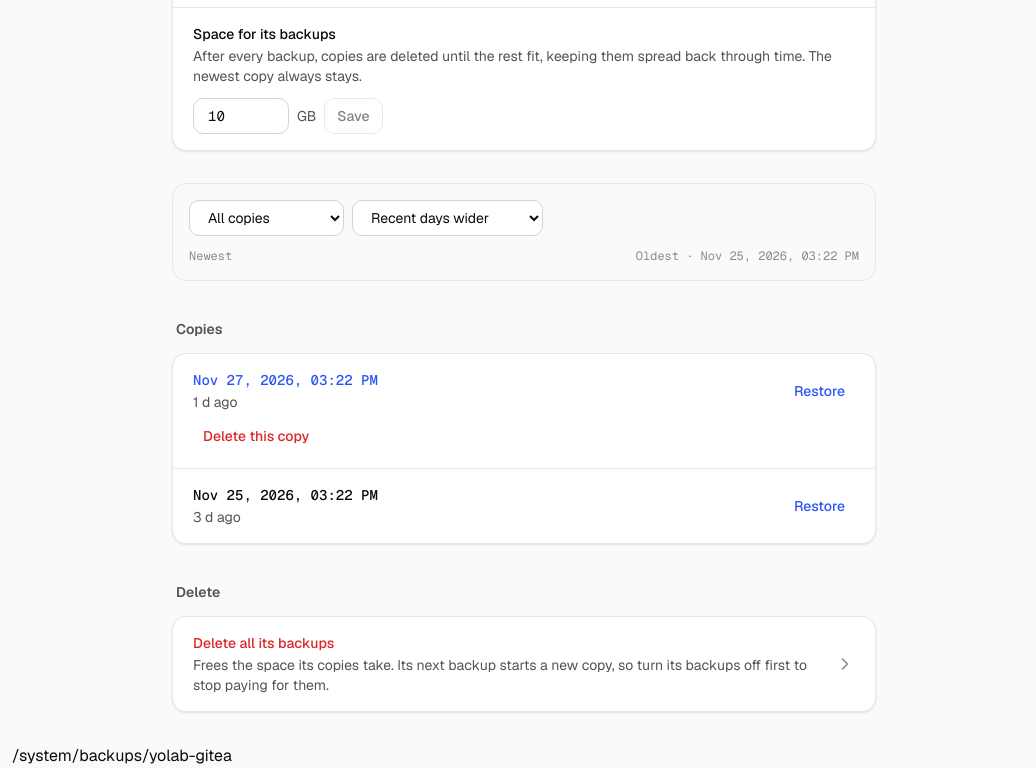
Test: BackupTimelinePage, a single copy › an error opening a copy that is not chosen still shows
The width and height of the screenshot is (1036, 768).
(page scrolled)
Click the button "Restore" in the row of "3 d ago": {"x": 820, "y": 506} 784,490 -> 855,522
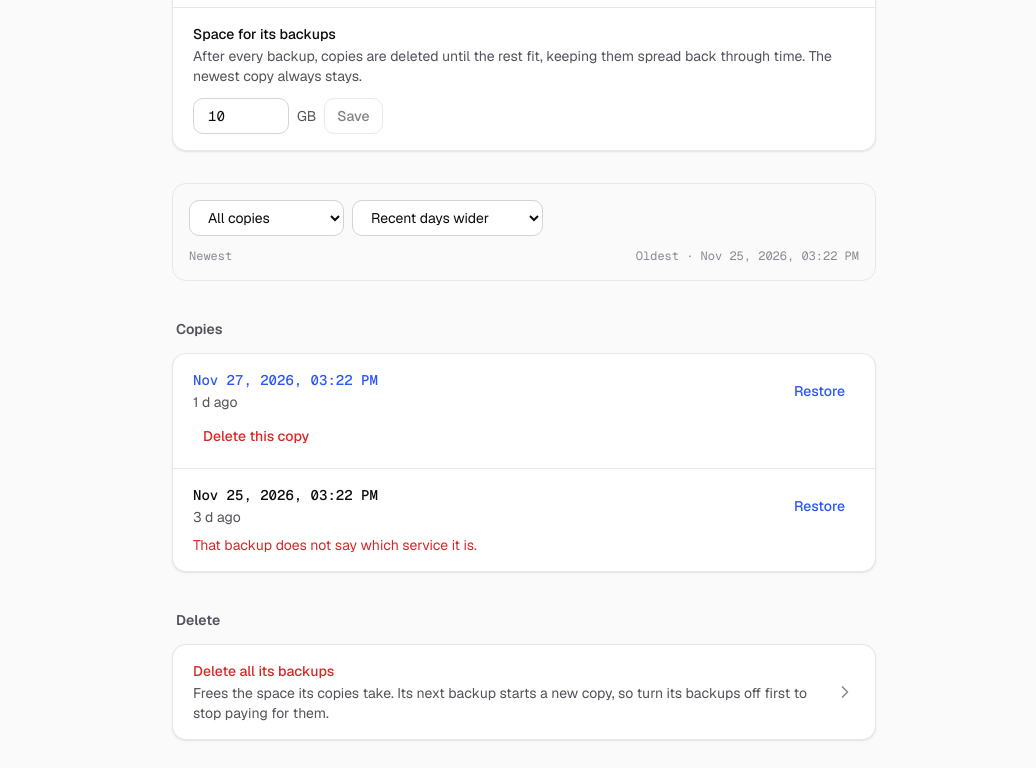
expect the number of buttons "Delete this copy" is 1: met, box 193,420 -> 319,452
expect the text "That backup does not say which service it is." is shown: met, box 193,535 -> 477,555
